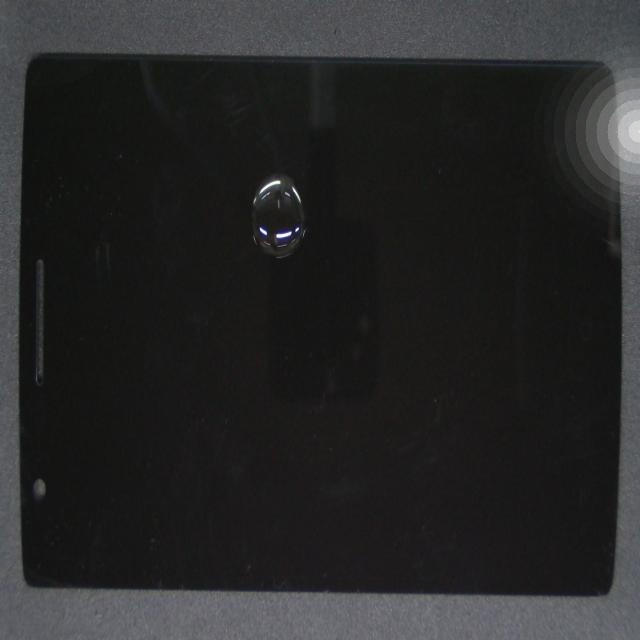oil: (171, 135, 452, 307)
